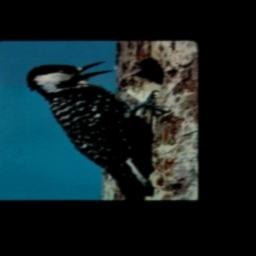Woodpecker: (20, 58, 173, 199)
